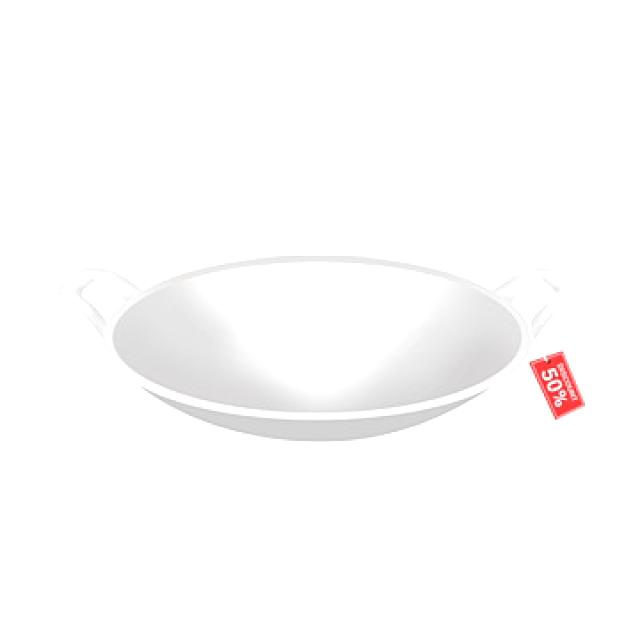Wajan: (50, 241, 585, 456)
